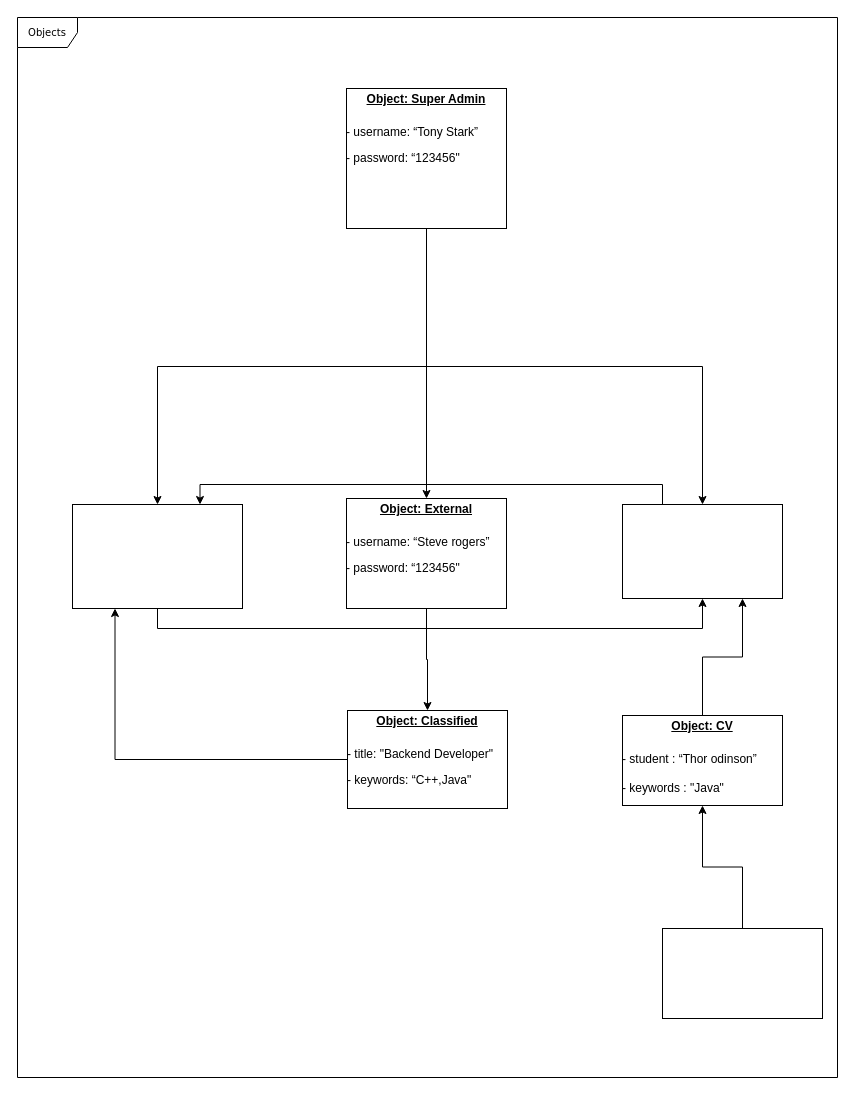
Image size: 855x1095. Some labels were removed from this diagram. The centre of each missing label's shape, as x and y in pixels:
Object: Admin - username: “Natasha romanoff” - password: “123456": point 157,556
Object: Keyword - title: Java - slug: java: point 742,973
Object:Student - username: “Thor odinson” - password: “123456": point 702,551
